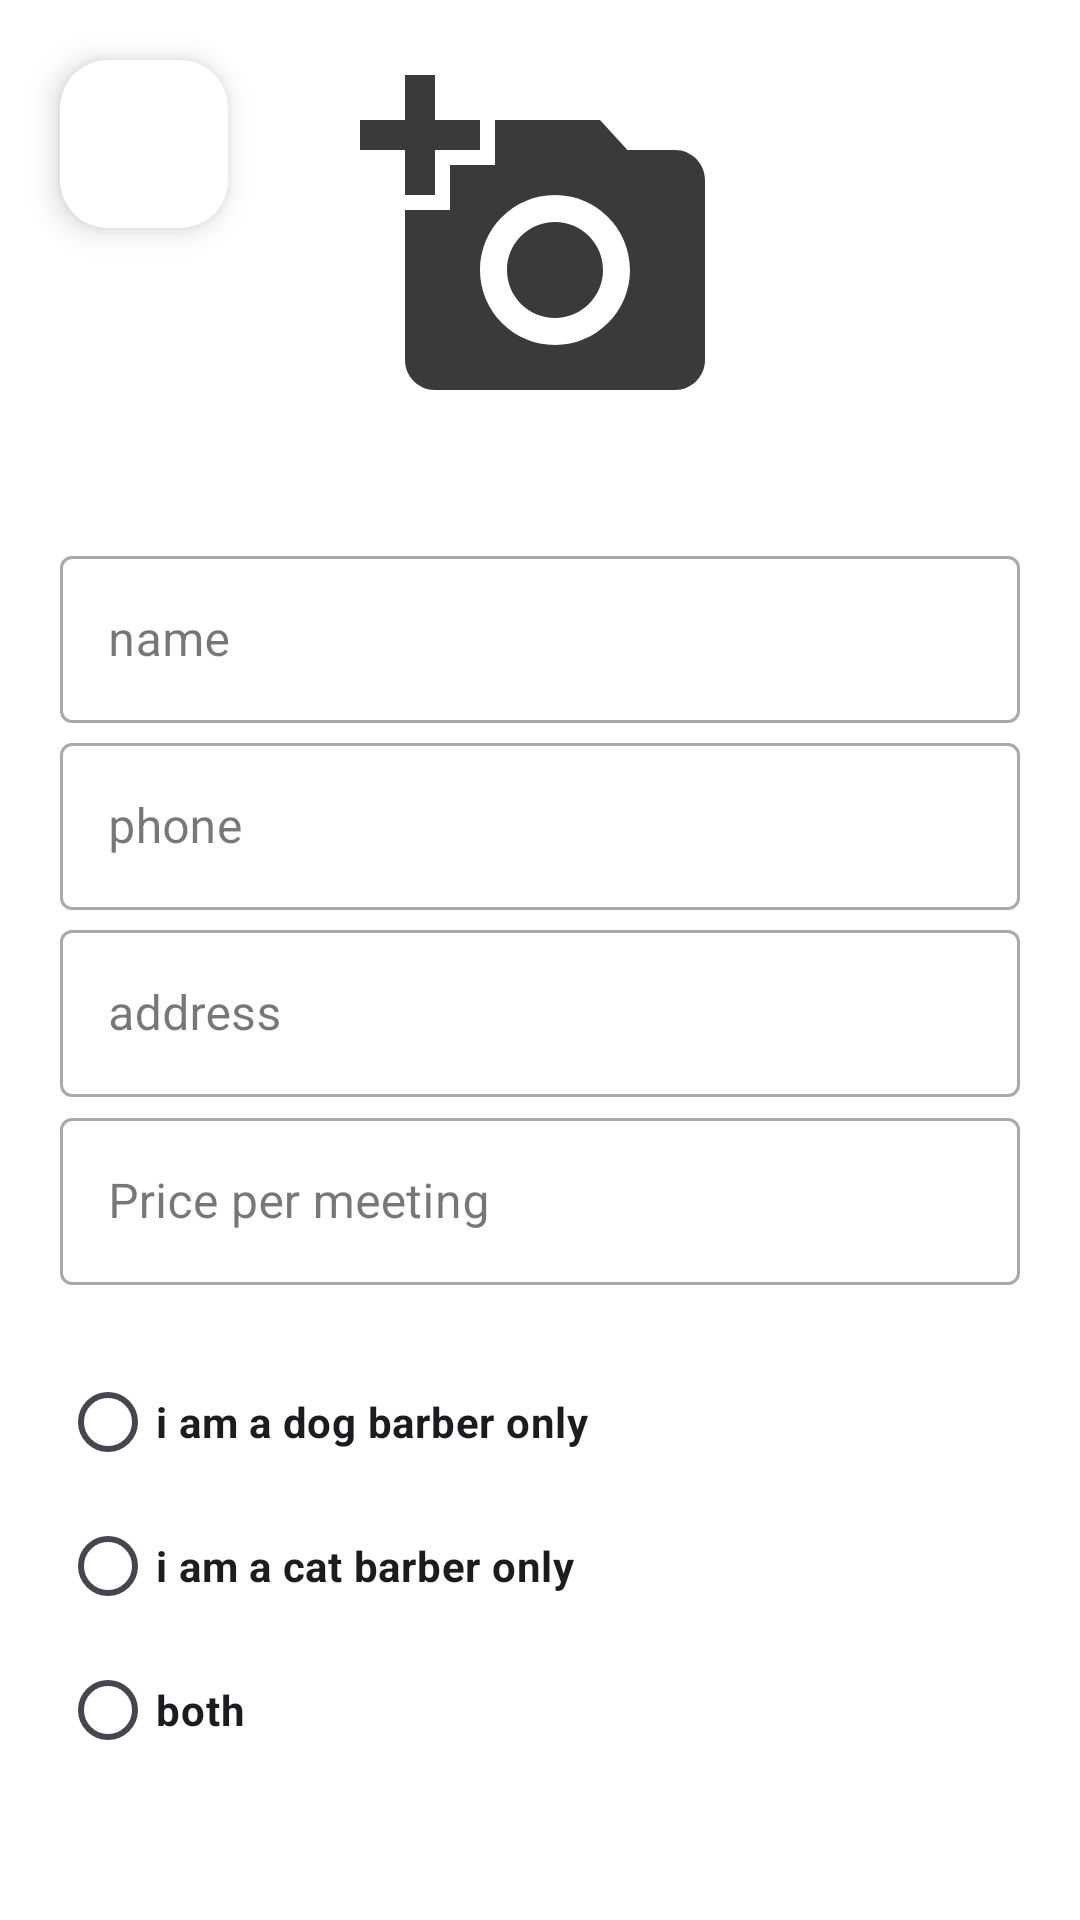

Icons on this 1080 × 1920 Android screen, each with its box as (x1, y1, x2, y2):
click to put a profile picture: (360, 75, 705, 390)
